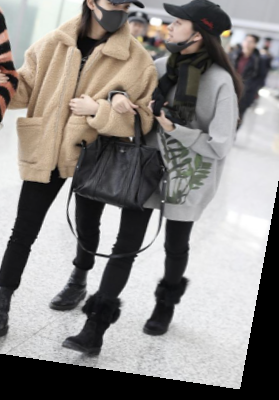mask_weared_incorrect: (151, 2, 251, 65)
